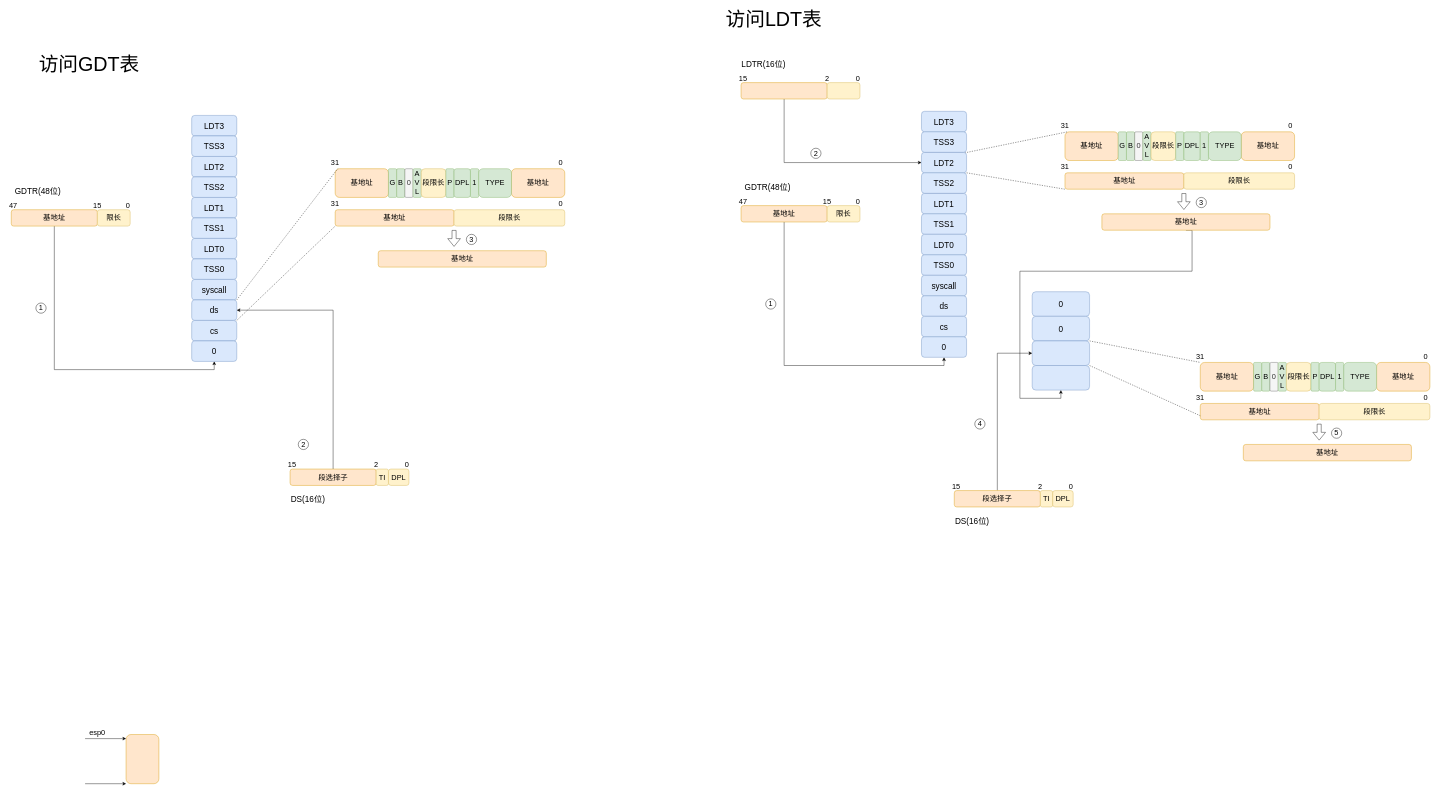
Image size: 1445x794. Some labels were removed from this diagram. Here are the shapes that lost their labels. From the top down, the centre of each, then its label:
At point 784,90: "GDT表中的索引值".
At point 1061,353: "data".
At point 1061,377: "text".
At point 142,759: "PCB".
